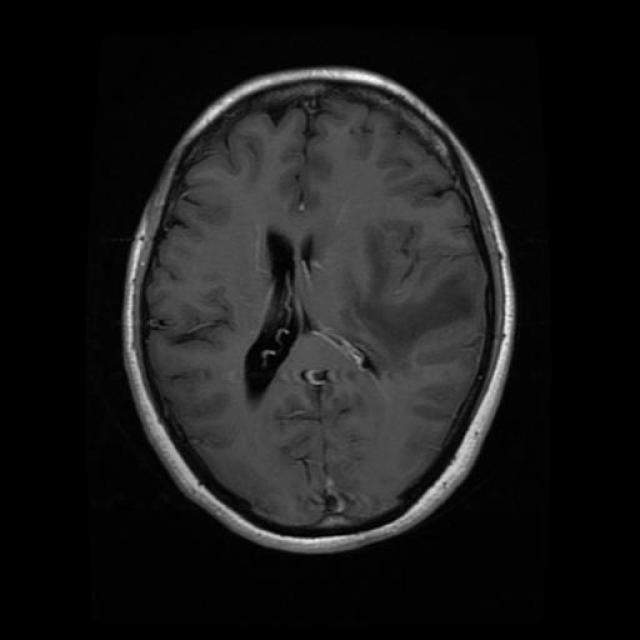glioma: (238, 218, 388, 414)
